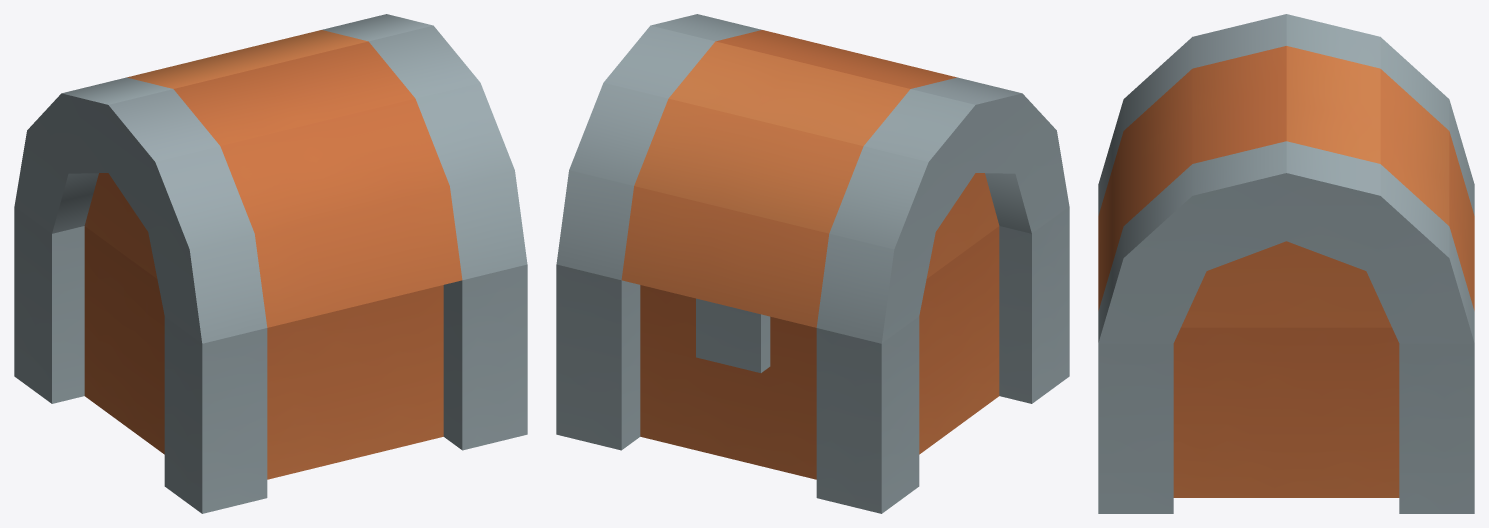
File: chest.glb
3 renders of one model, left to right at view 1: azimuth 30°, elevation 25°; view 2: azimuth 150°, elevation 25°; view 3: azimuth 270°, elevation 25°, orthographic.
Visible parts, largest first — view 1: lid, chest; view 2: lid, chest; view 3: lid, chest.
Boxes of the visible parts, x1,y1,x2,y2 form: lid: [14, 14, 527, 343]; chest: [14, 206, 527, 513]; lid: [556, 14, 1069, 343]; chest: [556, 206, 1069, 513]; lid: [1098, 14, 1474, 343]; chest: [1098, 327, 1474, 513].
Size of the model in its own units: 0.5 by 0.5 by 0.5.
1 material, 1 textured.
